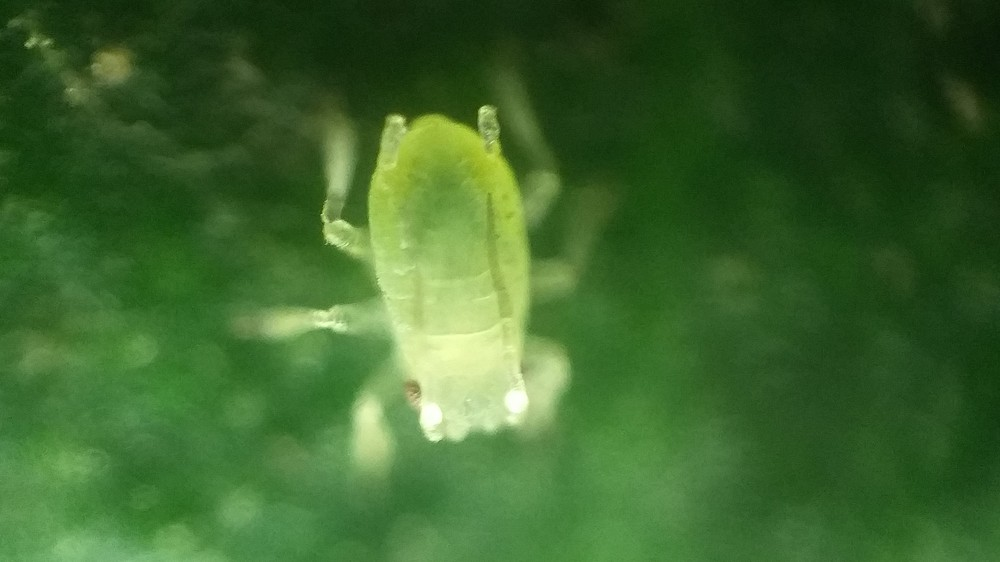Pulgon: (266, 76, 624, 501)
